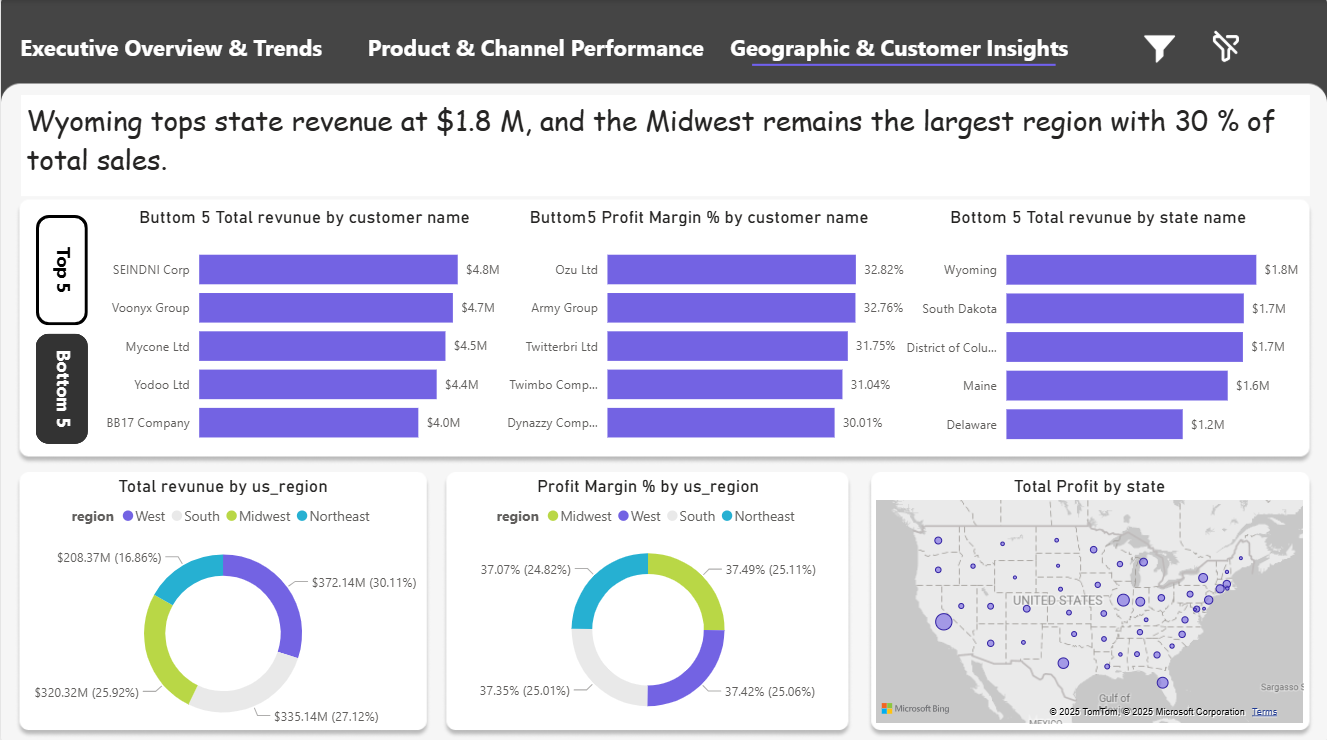

This screenshot's page, from the dashboard's own definition file:
{"tool":"powerbi","page":{"name":"Geographic & Customer Insights","canvas":[1280,720],"ordinal":2},"visuals":[{"type":"donutChart","fields":{"Category":["Sales_data.us_region"],"Y":["measure.Profit Margin %"]},"box":[428.6,458.6,392.9,250],"z":3000},{"type":"donutChart","fields":{"Category":["Sales_data.us_region"],"Y":["measure.Total revunue"]},"box":[18.6,458.6,392.9,257.1],"z":4000},{"type":"map","fields":{"Category":["Sales_data.state"],"Size":["measure.Total Profit"]},"box":[840,458.5,422.3,244.6],"z":5000},{"type":"barChart","title":"Buttom 5 Total revunue by customer name","fields":{"Category":["Sales_data.customer_name"],"Y":["measure.Total revunue"]},"box":[90,199.1,405.2,244.2],"z":6000},{"type":"barChart","title":"Buttom5 Profit Margin % by customer name","fields":{"Category":["Sales_data.customer_name"],"Y":["measure.Profit Margin %"]},"box":[471,199.1,406.9,244.2],"z":7000},{"type":"barChart","title":"Bottom 5 Total revunue by state name","fields":{"Y":["measure.Total revunue"],"Category":["Sales_data.state_name"]},"box":[857.2,199.1,405.2,245.9],"z":8000},{"type":"actionButton","box":[33.5,207.1,50,106.5],"z":9000},{"type":"actionButton","box":[33.8,322.5,50,106.2],"z":10000},{"type":"actionButton","title":"Button on B","box":[33.8,322.5,50,106.2],"z":12000},{"type":"textbox","title":"Text box B","box":[18.8,91.2,1243.8,97.5],"z":13000},{"type":"actionButton","box":[0,25.7,328.6,40],"z":15000},{"type":"actionButton","box":[345.7,25.7,340,40],"z":16000},{"type":"actionButton","box":[695,25.5,344,40],"z":17000},{"type":"image","box":[1097.9,20.5,41,53.1],"z":18000},{"type":"image","box":[1160.7,24.3,43.6,45],"z":19000}]}

Visuals, with their boxes in screenshot pixels (x1, y1, x2, y2), scaled from the page's 1280x720 canvas onto the 1327x740 screenshot:
donutChart - Sales_data.us_region x measure.Profit Margin %: rect(444, 471, 852, 728)
donutChart - Sales_data.us_region x measure.Total revunue: rect(19, 471, 427, 736)
map - Sales_data.state x measure.Total Profit: rect(871, 471, 1309, 723)
"Buttom 5 Total revunue by customer name" barChart: rect(93, 205, 513, 456)
"Buttom5 Profit Margin % by customer name" barChart: rect(488, 205, 910, 456)
"Bottom 5 Total revunue by state name" barChart: rect(889, 205, 1309, 457)
actionButton: rect(35, 213, 87, 322)
actionButton: rect(35, 331, 87, 441)
"Button on B" actionButton: rect(35, 331, 87, 441)
"Text box B" textbox: rect(19, 94, 1309, 194)
actionButton: rect(0, 26, 341, 68)
actionButton: rect(358, 26, 711, 68)
actionButton: rect(721, 26, 1077, 67)
image: rect(1138, 21, 1181, 76)
image: rect(1203, 25, 1249, 71)
